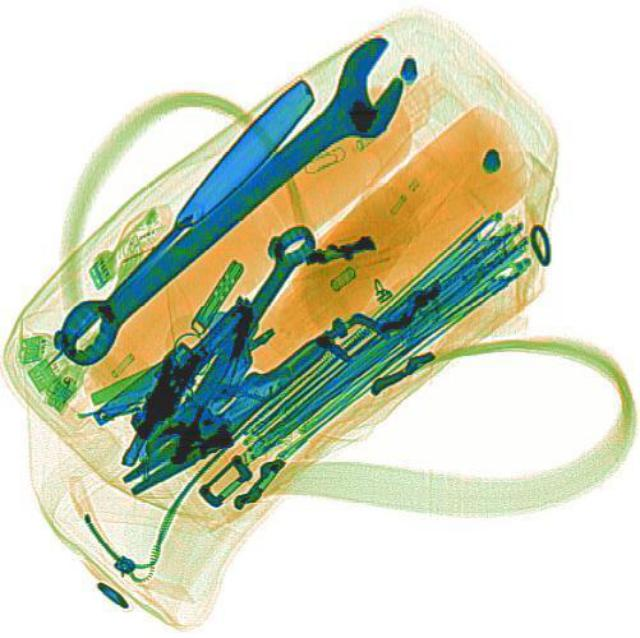Gun: (112, 280, 250, 478)
Knife: (26, 73, 326, 373)
Wrench: (34, 27, 433, 381), (138, 214, 326, 466)
